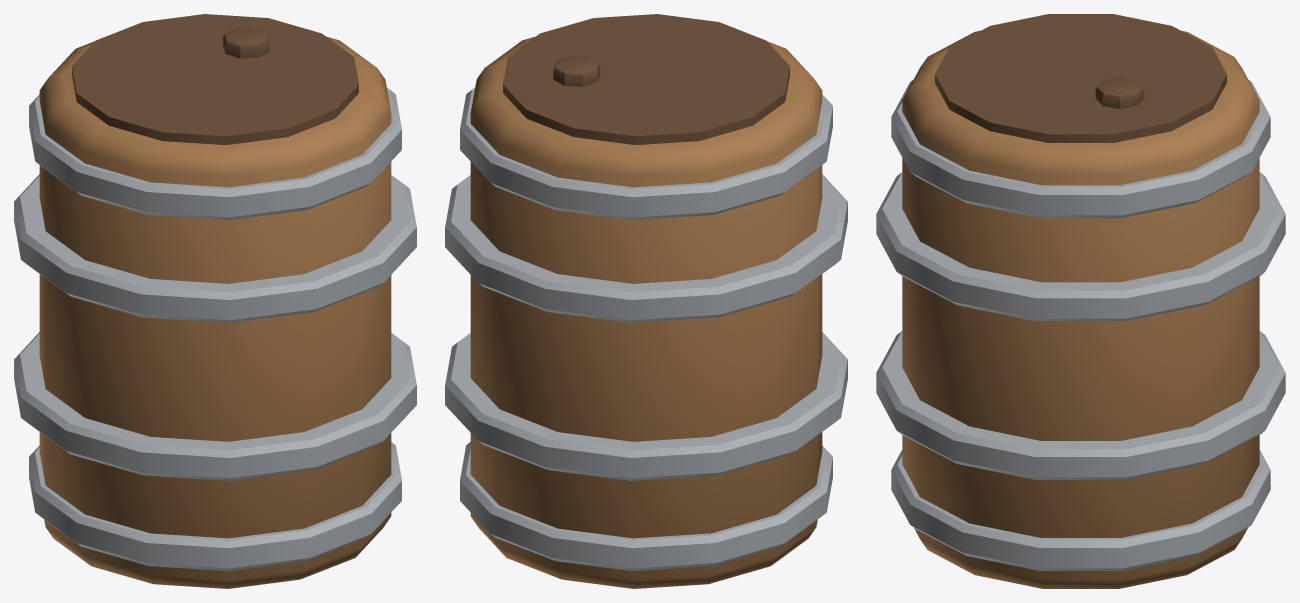
The model's file is Barrel.fbx.
3 views of the same model, side by side, from view 1: azimuth 30°, elevation 25°; view 2: azimuth 150°, elevation 25°; view 3: azimuth 270°, elevation 25° (orthographic).
Parts seen in each view (by area): view 1: Barrel; view 2: Barrel; view 3: Barrel.
Part boxes in pixels (x1,y1,x2,y2): Barrel: [14, 14, 416, 588]; Barrel: [445, 14, 847, 588]; Barrel: [876, 14, 1285, 588].
Bounding box in the file's own units: 0.8202 × 1.05 × 0.8413.
